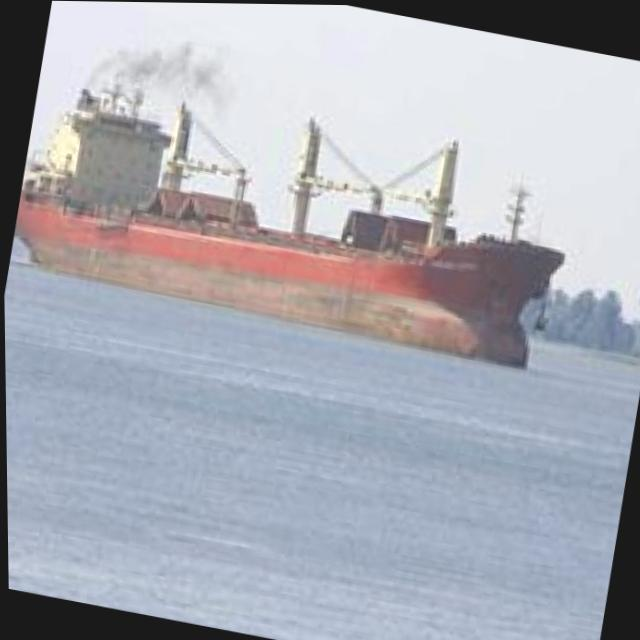ship2: (13, 90, 565, 369)
